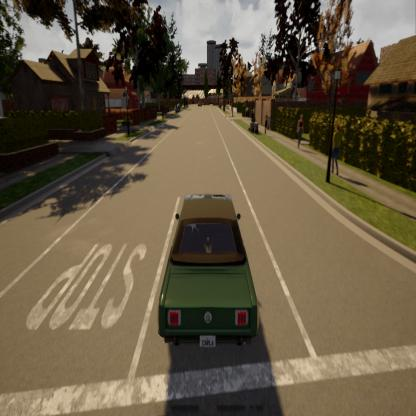Cars: (142, 169, 272, 360)
Pedestrian: (326, 122, 345, 184), (293, 110, 307, 156), (262, 110, 273, 137)
